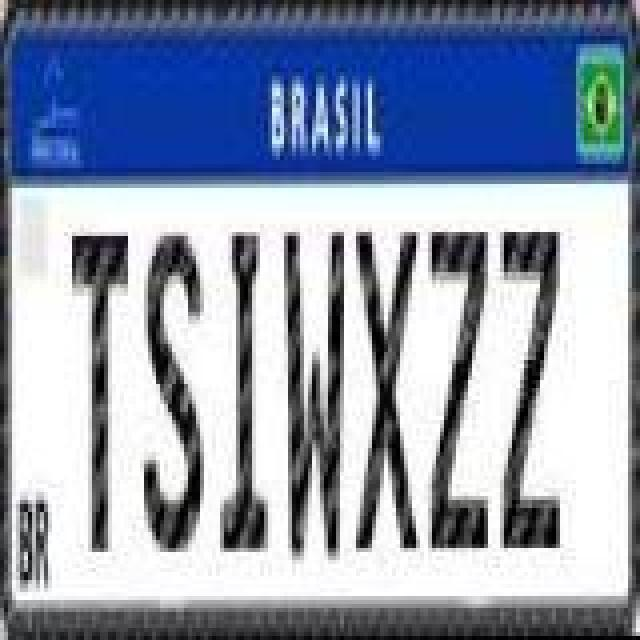I: (218, 228, 270, 552)
S: (144, 228, 208, 552)
T: (70, 230, 130, 554)
W: (280, 230, 344, 566)
X: (356, 228, 420, 552)
Z: (426, 228, 486, 552), (498, 226, 558, 550)
